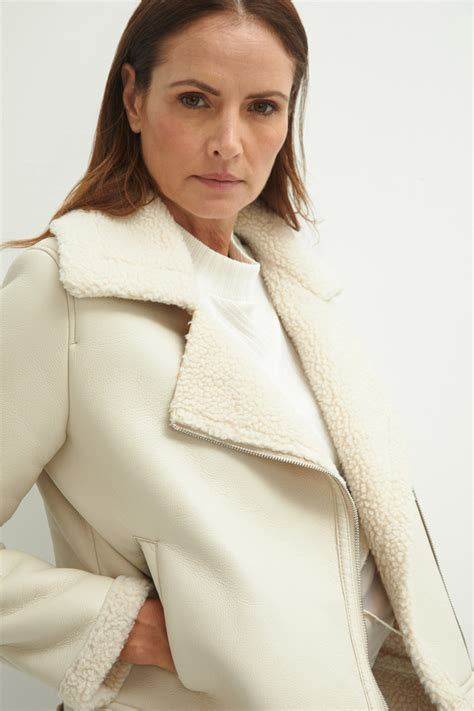gamuza: (2, 234, 387, 711)
